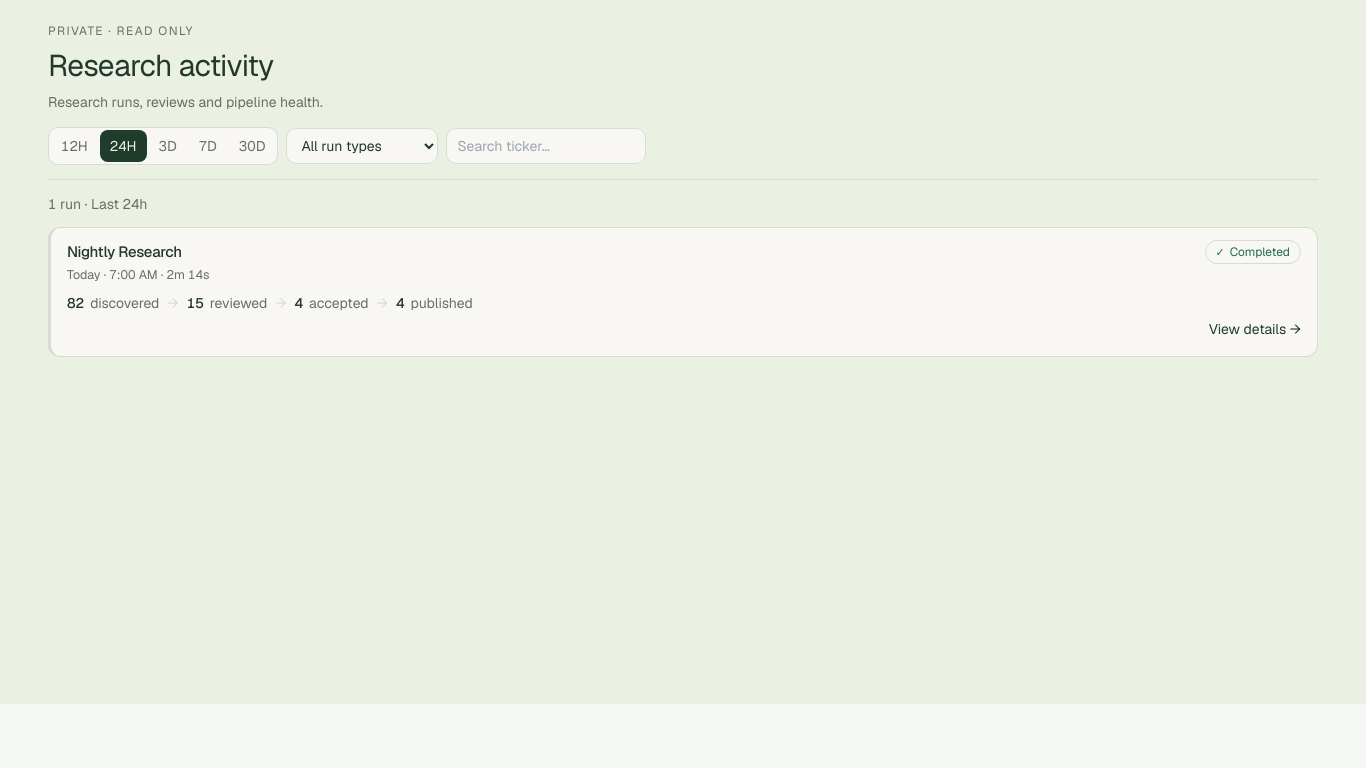
it: research activity page › hides the Candidates area entirely when no candidate was recorded
Click the button "View details →": [1251, 330] box [1201,316,1301,344]
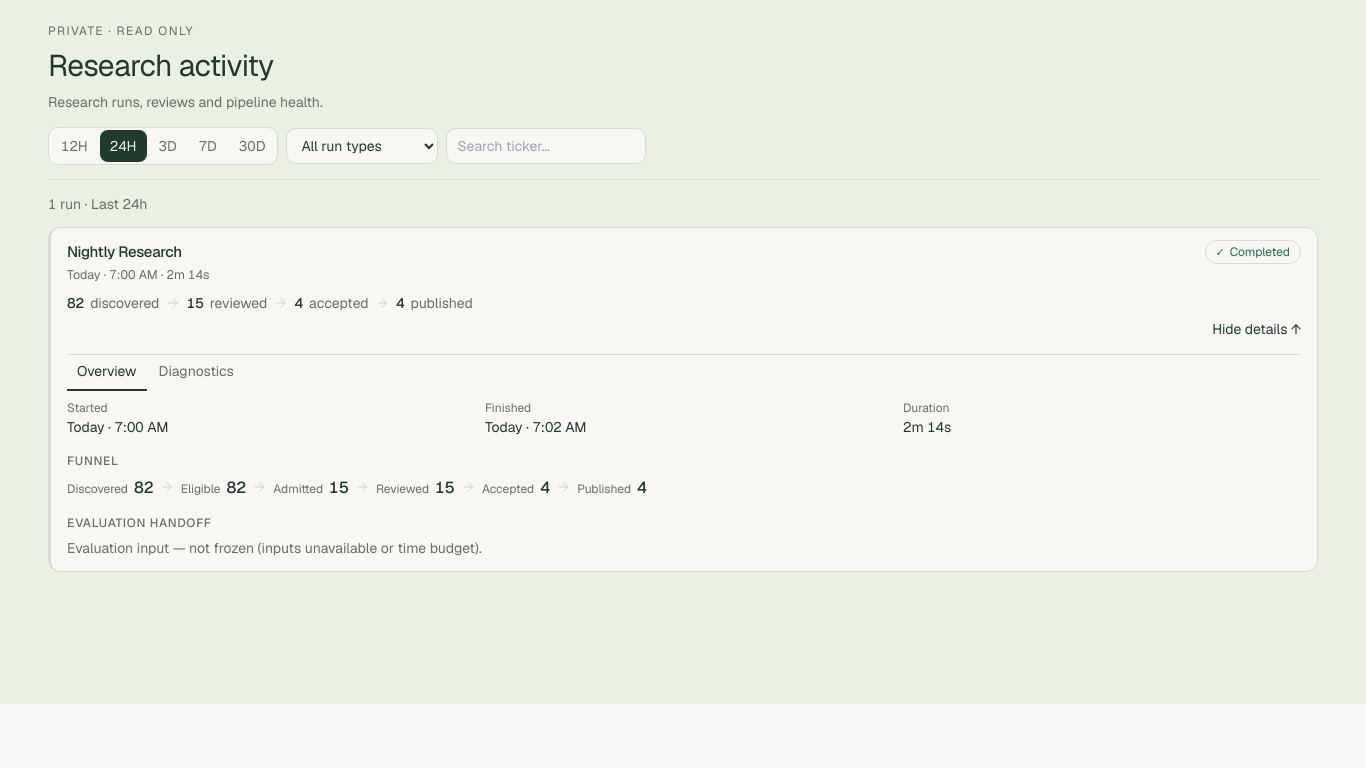
Now the tab "Overview" is shown, box [67,355,147,391]
Now the tab "Diagnostics" is shown, box [149,355,244,391]
